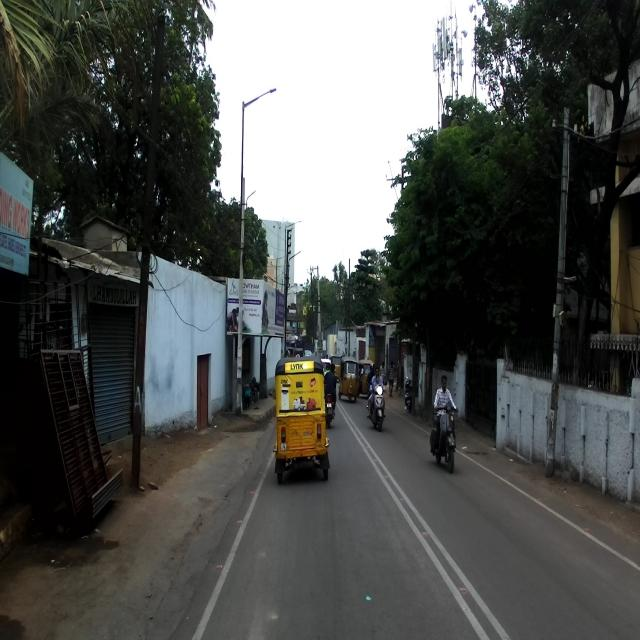autorickshaw: (272, 354, 330, 484)
scooter: (429, 402, 458, 472), (371, 384, 386, 428)
